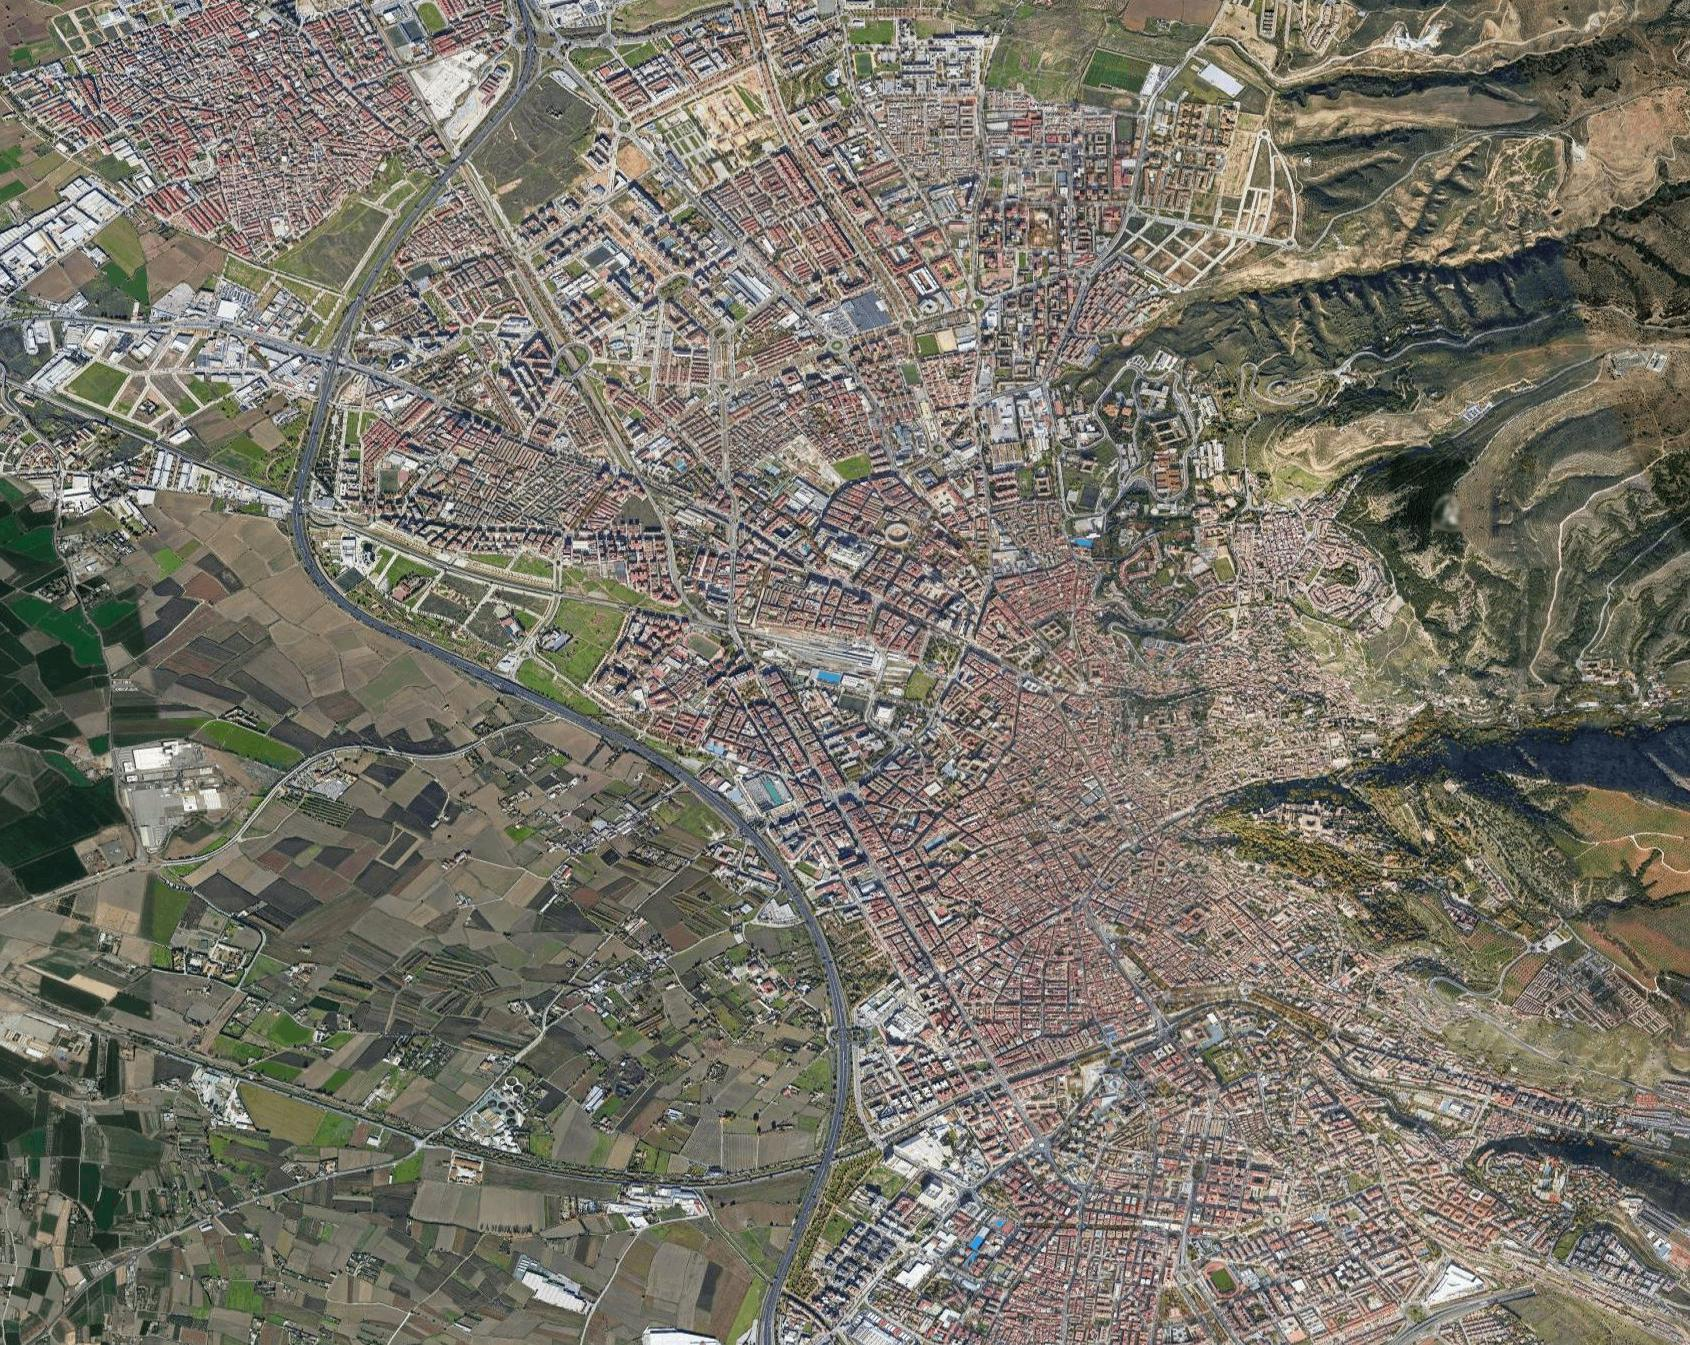industrial: (36, 279, 263, 382)
motorway: (499, 679, 702, 806), (298, 560, 502, 685), (709, 797, 838, 968), (785, 963, 870, 1198), (310, 209, 431, 371), (272, 366, 370, 561), (405, 86, 531, 209), (730, 1200, 834, 1345), (484, 1, 550, 84)
train_station: (753, 613, 888, 686)
